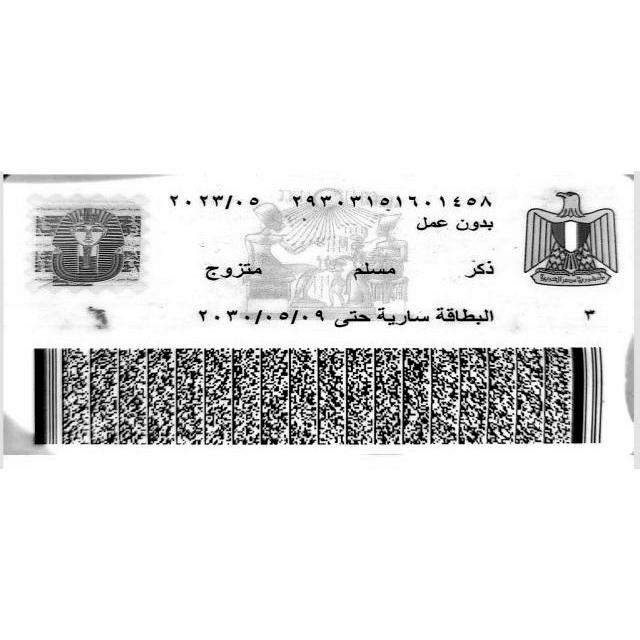id_card: (4, 174, 628, 458)
